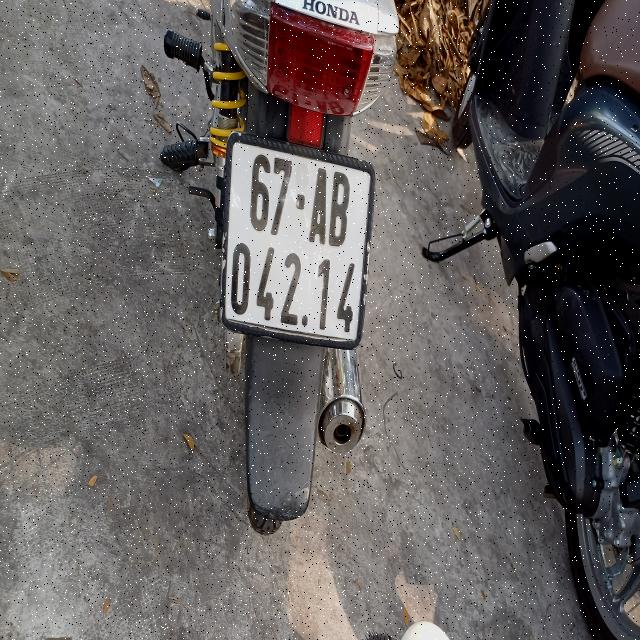0: (230, 242, 250, 314)
1: (316, 256, 333, 331)
2: (281, 252, 301, 326)
4: (256, 242, 275, 323), (336, 262, 354, 336)
6: (251, 154, 270, 232)
7: (270, 153, 294, 234)
A: (308, 165, 329, 245)
B: (328, 167, 349, 248)
